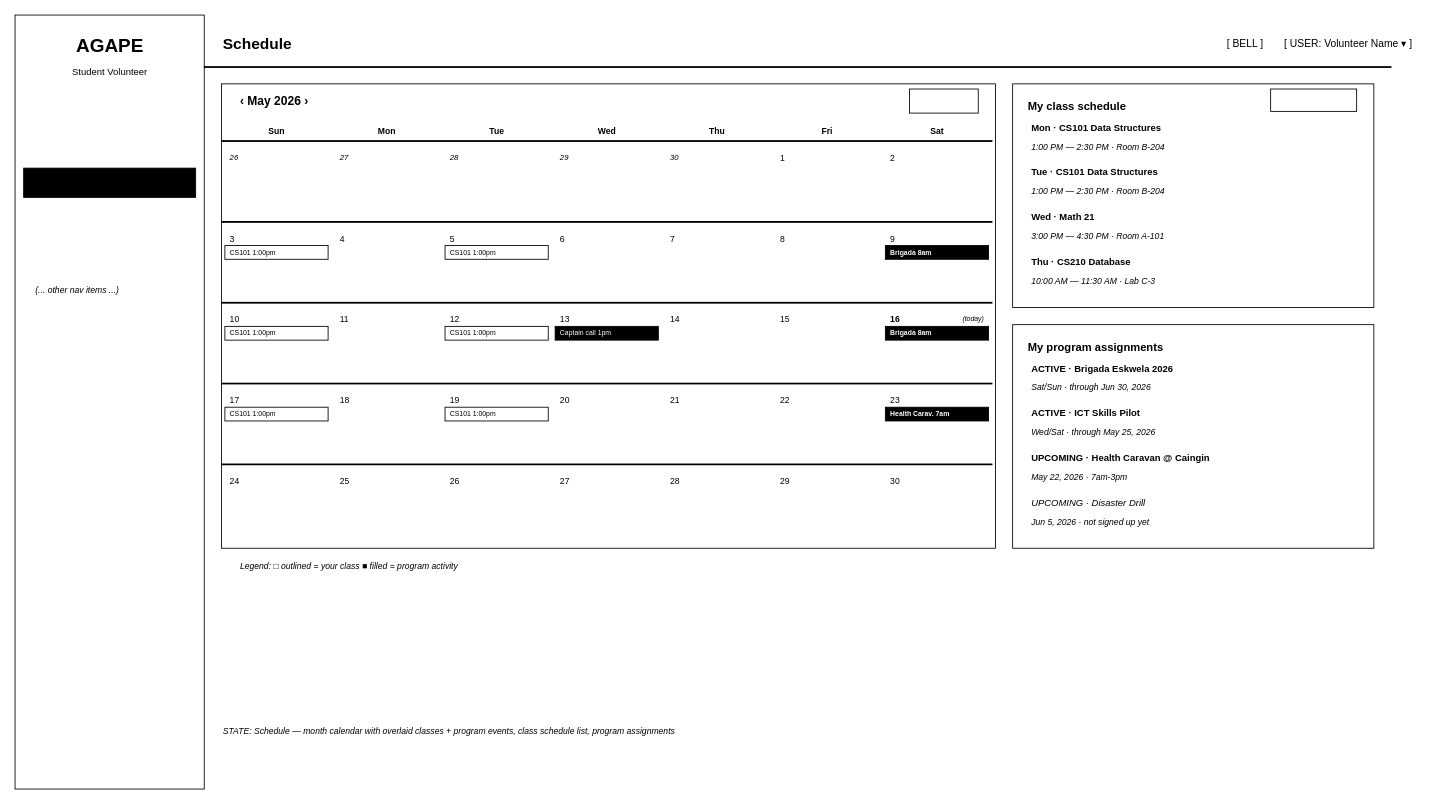
This 1441x804 diagram has some shape labels left out. The box of each missing label's shape, as (x1, y1, x2, y2) in pixels:
[ + Add class ]: (1270, 88, 1357, 111)
[ Today ]: (909, 88, 978, 113)
[x] Schedule: (23, 167, 196, 197)
